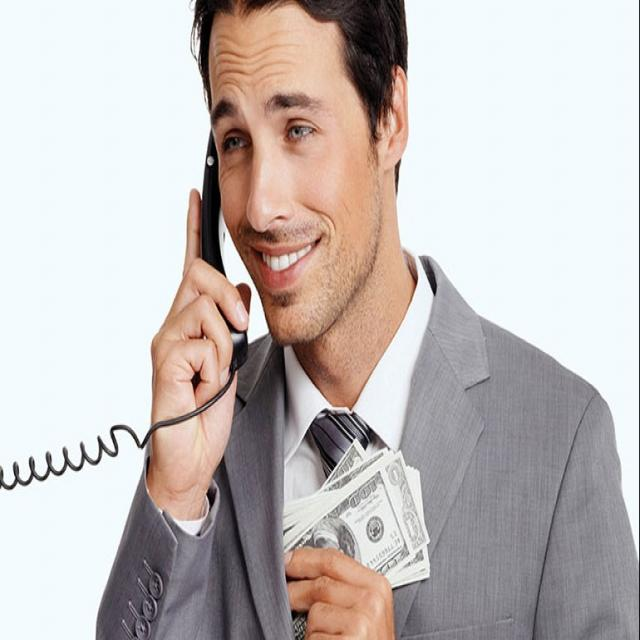phone: (134, 78, 270, 481)
